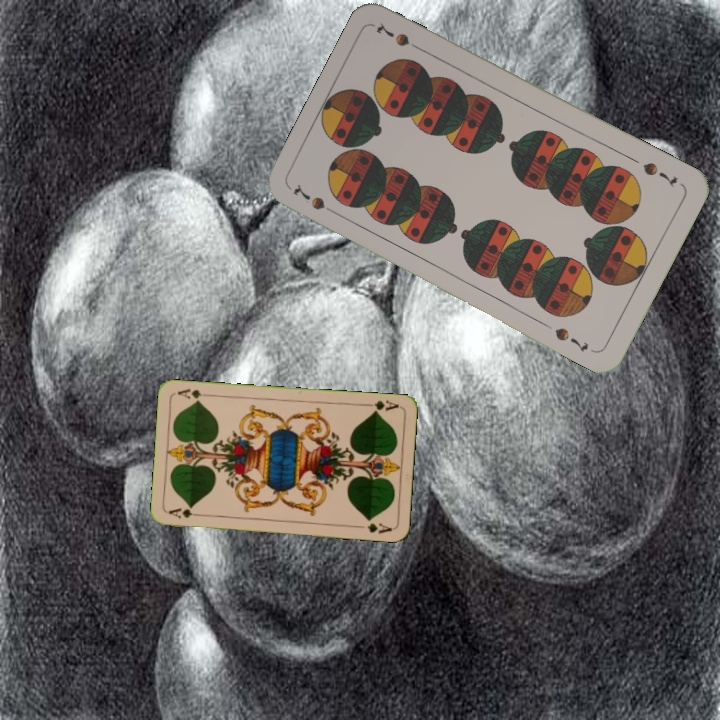GA: (361, 396, 401, 415), (165, 504, 205, 521)
S7: (289, 180, 342, 219), (638, 158, 680, 191)
